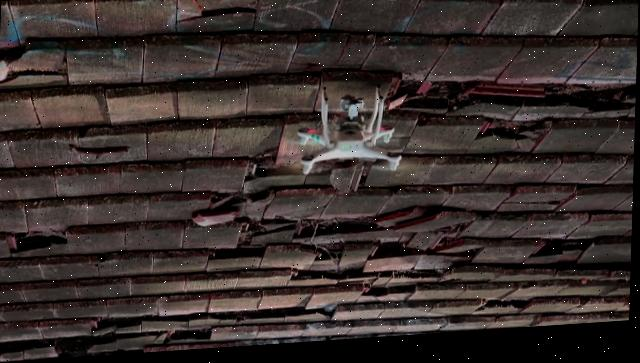drone: (292, 86, 407, 185)
